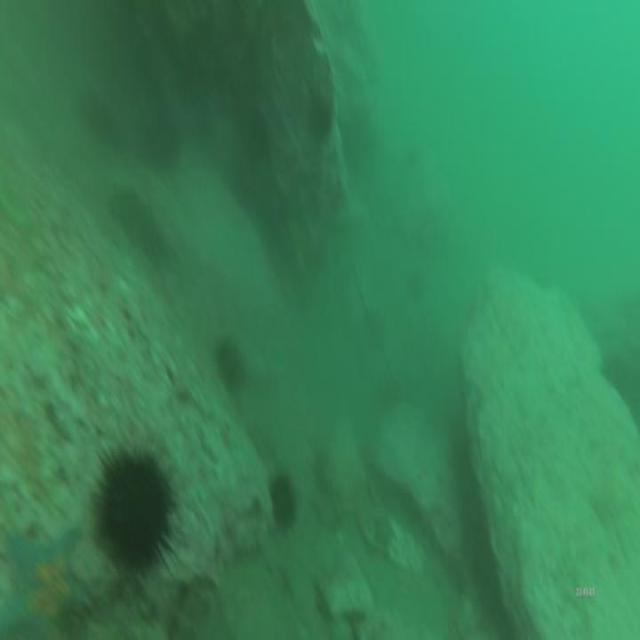echinus: (89, 441, 178, 589), (138, 108, 180, 176), (266, 469, 300, 534), (213, 338, 244, 397), (305, 90, 335, 145), (85, 98, 119, 144)
starfish: (1, 524, 91, 640)
